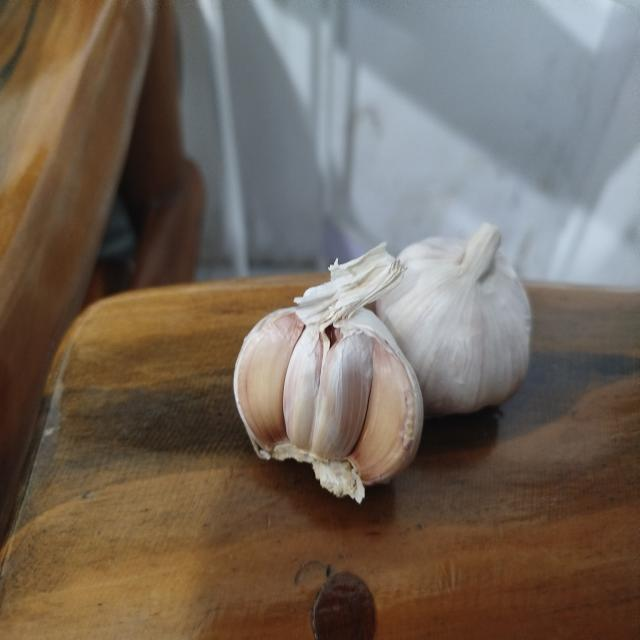garlic: (232, 241, 424, 504), (375, 222, 532, 418)
